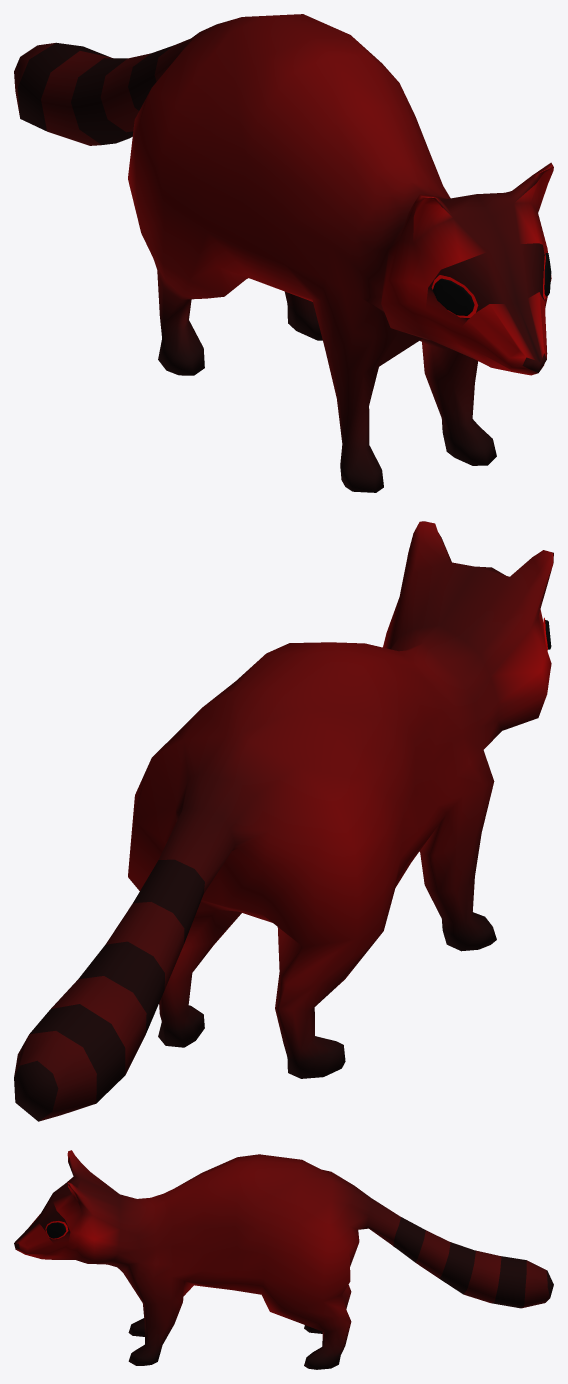
File: Animals_Raccoon.fbx
3 views of the same model, one above another, from view 1: azimuth 30°, elevation 25°; view 2: azimuth 150°, elevation 25°; view 3: azimuth 270°, elevation 25° (orthographic). The views are drawn at different scales.
Visible parts, largest first — view 1: base; view 2: base; view 3: base.
Boxes of the visible parts, bbox=[...] form: base: bbox=[14, 14, 553, 492]; base: bbox=[14, 521, 553, 1121]; base: bbox=[14, 1150, 553, 1369].
Bounding box in the file's own units: 23 × 34.08 × 89.59.
